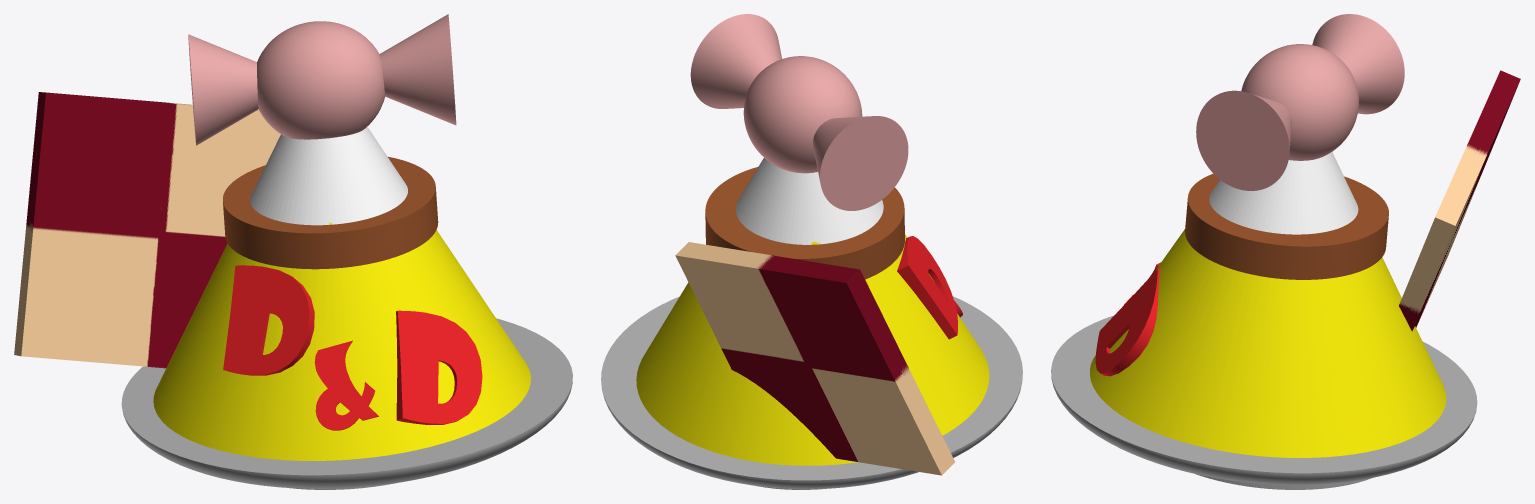
The model's file is desperadobundle.fbx.
3 views of the same model, side by side, from view 1: azimuth 30°, elevation 25°; view 2: azimuth 150°, elevation 25°; view 3: azimuth 270°, elevation 25° (orthographic). The views are drawn at different scales.
Visible parts, largest first — view 1: node_id60 (×5), node_id106, node_id67, node_id87, node_id77, node_id92; view 2: node_id60 (×5), node_id106, node_id67, node_id77; view 3: node_id60 (×5), node_id67 (×2), node_id106, node_id87.
Boxes of the visible parts, left/top/right/bottom form: node_id60 (×5): left=153, top=14, right=530, bottom=460; node_id106: left=14, top=92, right=280, bottom=368; node_id67: left=121, top=318, right=572, bottom=488; node_id87: left=396, top=310, right=482, bottom=424; node_id77: left=223, top=265, right=314, bottom=375; node_id92: left=314, top=340, right=378, bottom=430; node_id60 (×5): left=636, top=14, right=989, bottom=465; node_id106: left=675, top=242, right=954, bottom=475; node_id67: left=601, top=296, right=1022, bottom=489; node_id77: left=897, top=236, right=957, bottom=339; node_id60 (×5): left=1090, top=14, right=1446, bottom=457; node_id67 (×2): left=1051, top=315, right=1477, bottom=489; node_id106: left=1399, top=70, right=1520, bottom=331; node_id87: left=1095, top=269, right=1160, bottom=376.
Size of the model in its own units: 0.5259 by 0.4812 by 0.5195.
Materials: 10 (2 with a texture image).
